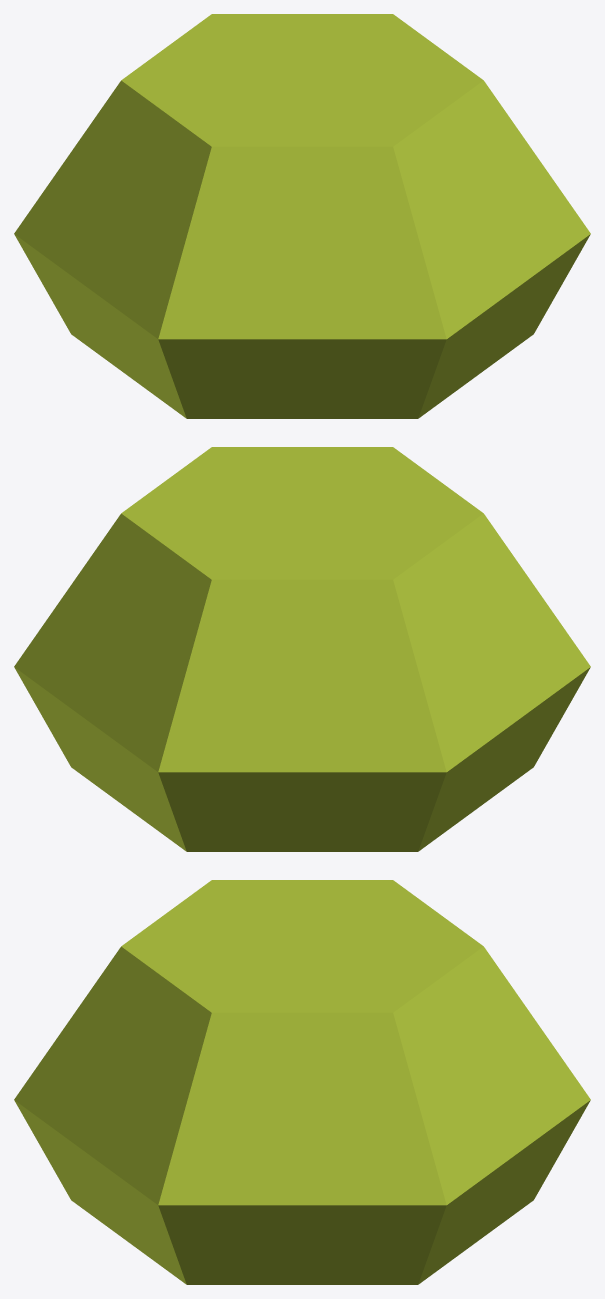
Rendered from cactusC.FBX.
3 renders of one model, top to bottom at view 1: azimuth 30°, elevation 25°; view 2: azimuth 150°, elevation 25°; view 3: azimuth 270°, elevation 25°, orthographic.
Parts seen in each view (by area): view 1: cactusC; view 2: cactusC; view 3: cactusC.
Boxes of the visible parts, left/top/right/bottom form: cactusC: left=14, top=14, right=590, bottom=418; cactusC: left=14, top=447, right=590, bottom=851; cactusC: left=14, top=880, right=590, bottom=1284.
Size of the model in its own units: 0.2154 by 0.1208 by 0.2488.
